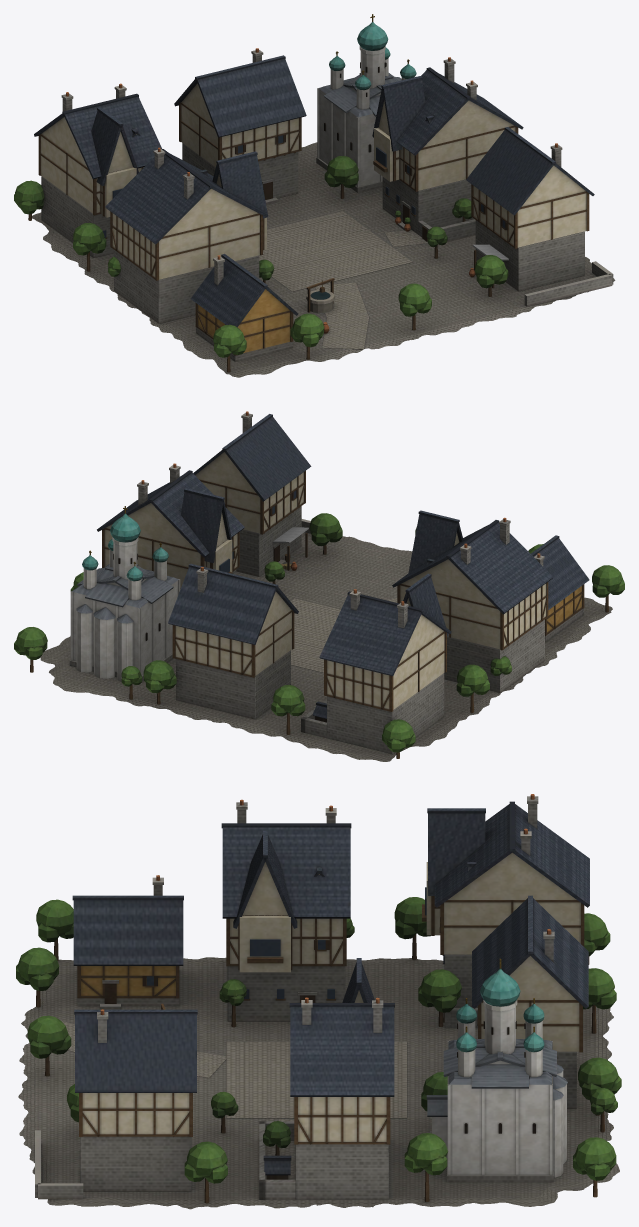
Rendered from kingdoms-town-small-b-easteurope.glb.
3 renders of one model, top to bottom at view 1: azimuth 30°, elevation 25°; view 2: azimuth 150°, elevation 25°; view 3: azimuth 270°, elevation 25°, orthographic. The views are drawn at different scales.
Parts seen in each view (by area): view 1: LOD0; view 2: LOD0; view 3: LOD0.
Part boxes in pixels (x1=…): LOD0: x1=14, y1=14, x2=615, y2=377; LOD0: x1=14, y1=411, x2=624, y2=761; LOD0: x1=16, y1=794, x2=621, y2=1209.
Size of what is drawn, in the model's own units: 4.11 by 1.5 by 4.06.
3 materials, 3 textured.
